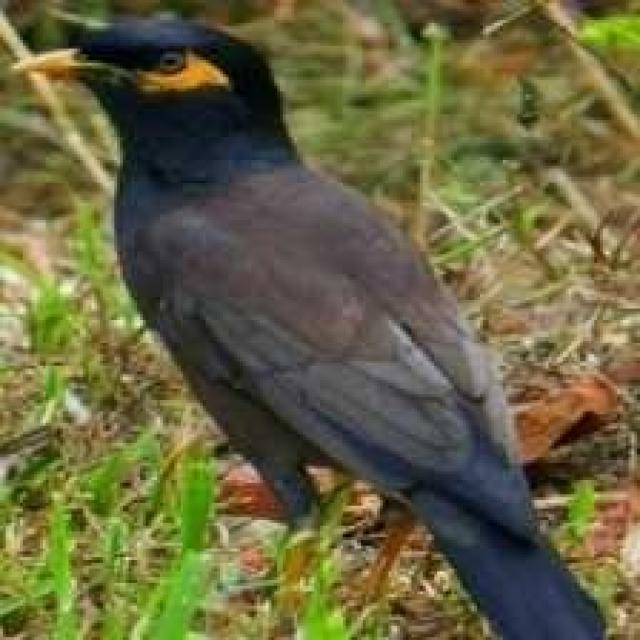bird: (7, 10, 617, 640)
